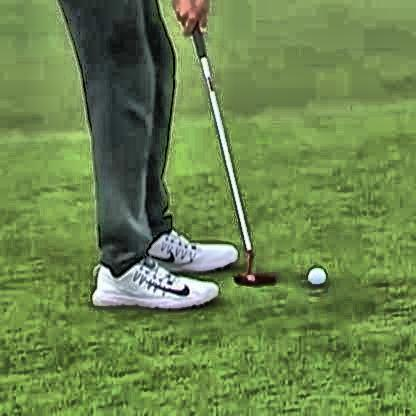golfball: (303, 265, 325, 284)
